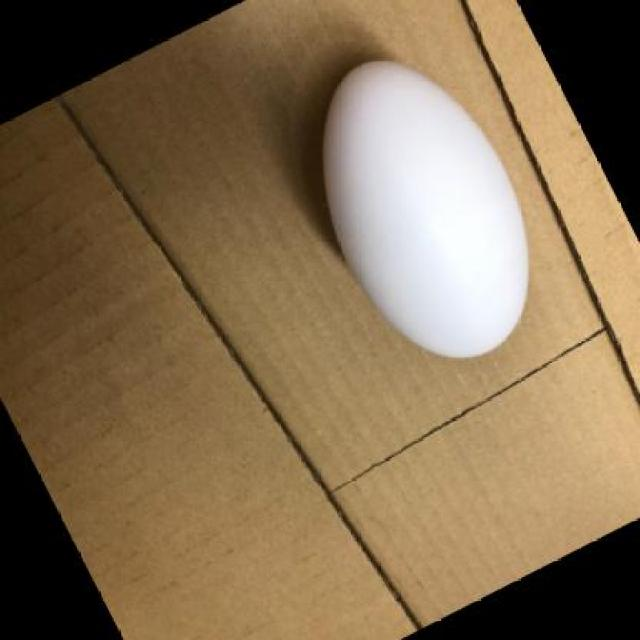egg: (315, 52, 535, 362)
